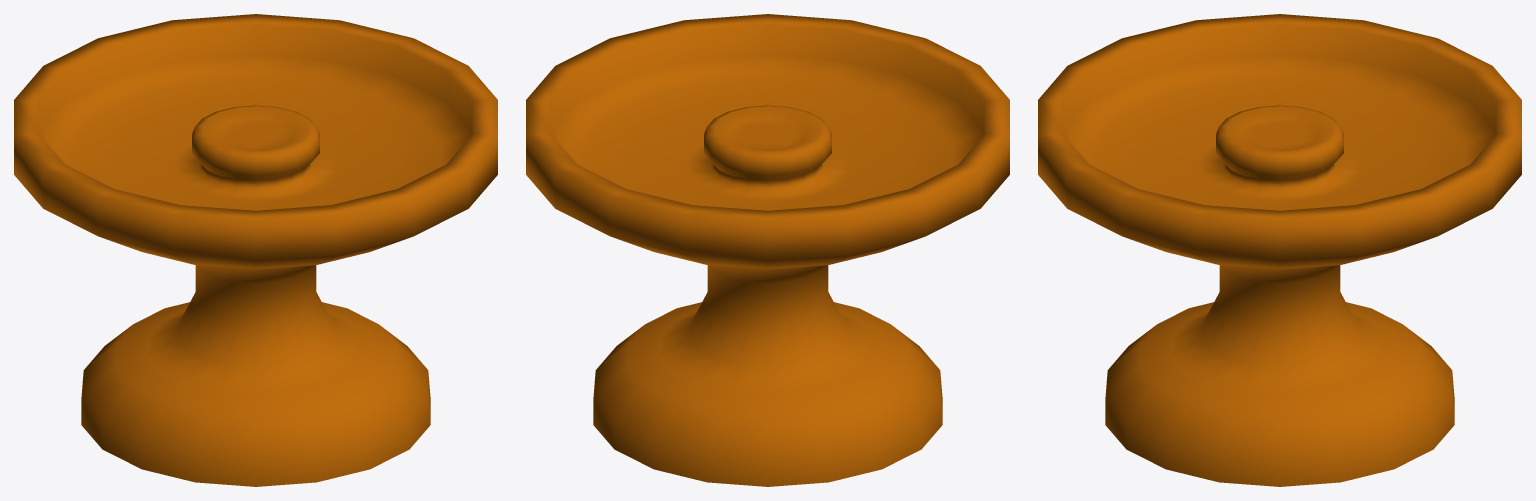
Rendered from Mesero.fbx.
3 renders of one model, left to right at view 1: azimuth 30°, elevation 25°; view 2: azimuth 150°, elevation 25°; view 3: azimuth 270°, elevation 25°, orthographic.
Visible parts, largest first — view 1: Mesero; view 2: Mesero; view 3: Mesero.
Part boxes in pixels (left/top/right/bottom): Mesero: left=14, top=14, right=497, bottom=486; Mesero: left=526, top=14, right=1009, bottom=486; Mesero: left=1038, top=14, right=1521, bottom=486.
Size of the model in its own units: 0.8686 by 0.5742 by 0.8554.
